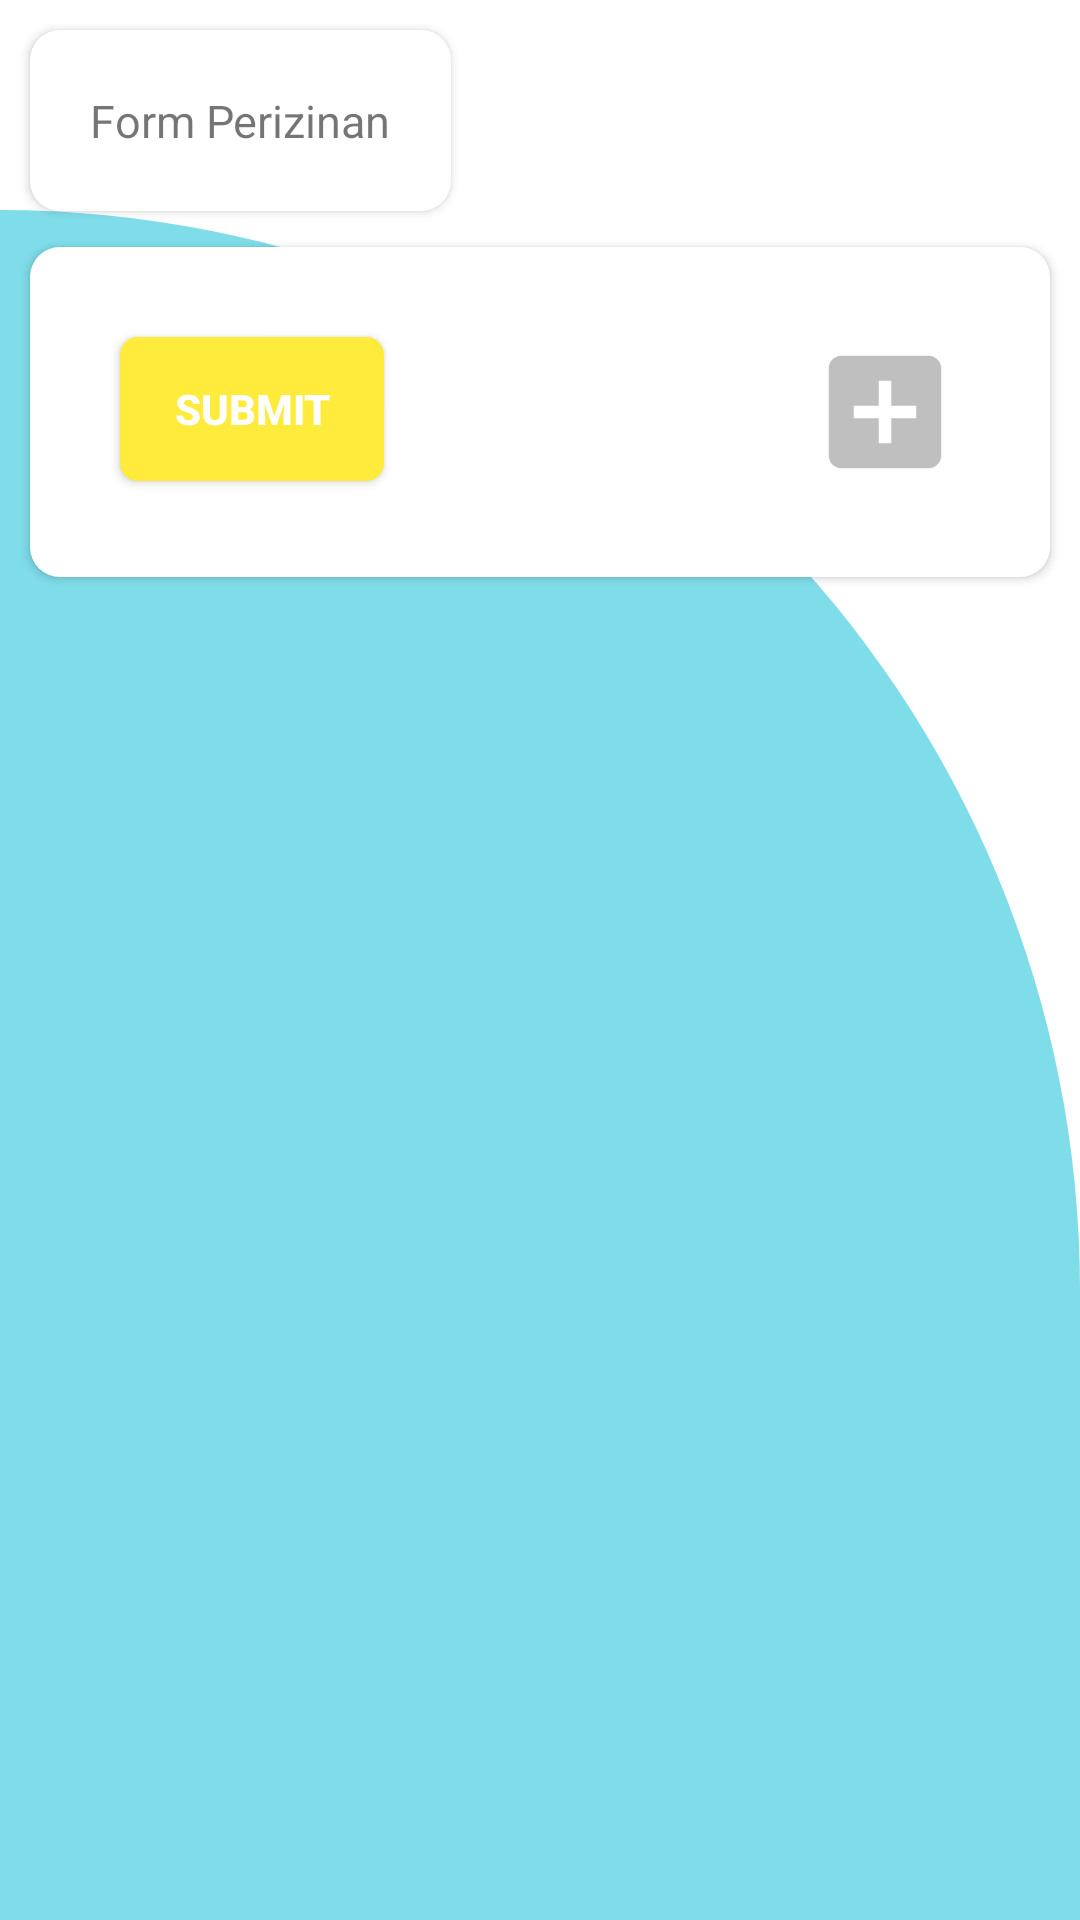

Point at icon controls on the screen. Image size 1080 x 1920, points as (x=x, y=y).
add: (x=885, y=412)
